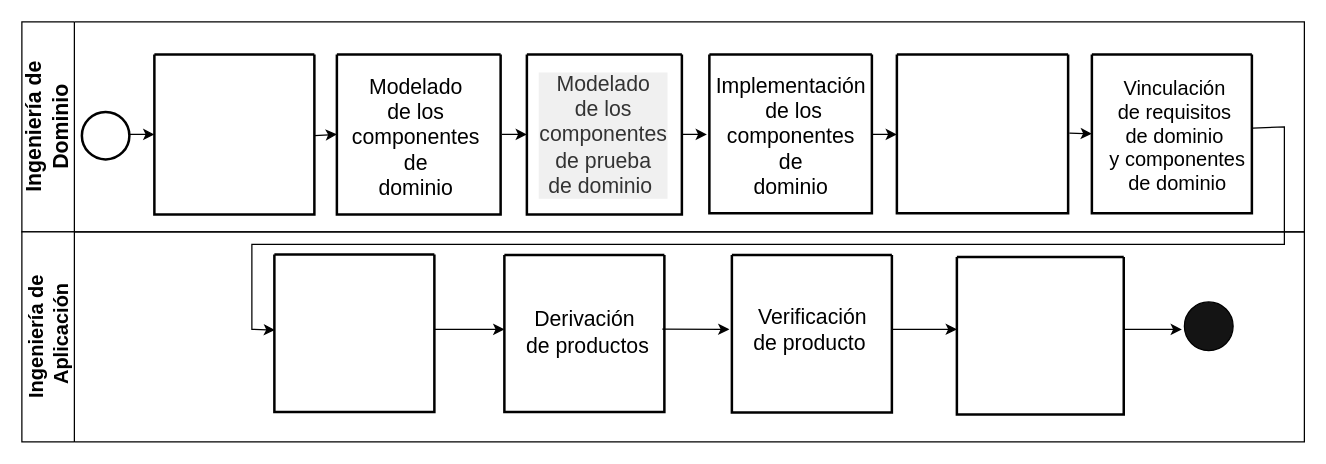
Image size: 1326x464. Some labels were removed from this diagram. Here are the shapes that lost their labels. From the top down, the centre of each, then its label:
At pixel 233 133: "Modelado de los requisitos de la linea de productos".
At pixel 982 133: "Implementación de los componentes de pruebas de dominio".
At pixel 353 332: "Configuración de productos".
At pixel 1039 335: "Ejecución de pruebas unitarias".
